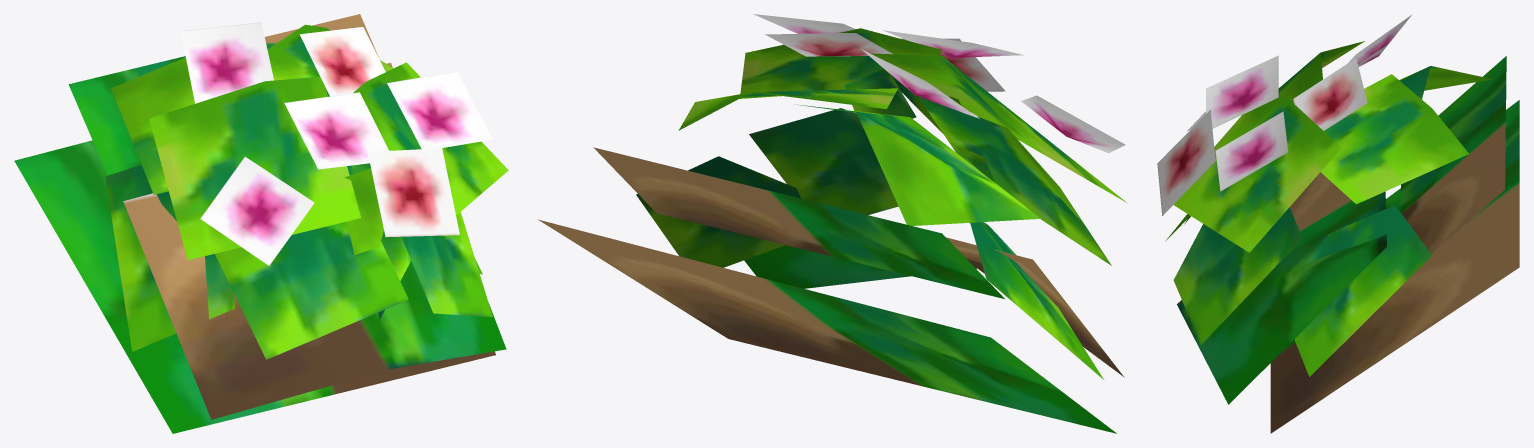
File: fg_bushB_2_wt.dae
3 views of the same model, side by side, from view 1: azimuth 30°, elevation 25°; view 2: azimuth 150°, elevation 25°; view 3: azimuth 270°, elevation 25° (orthographic). The views are drawn at different scales.
Visible parts, largest first — view 1: fg_bushB_2_wt; view 2: fg_bushB_2_wt; view 3: fg_bushB_2_wt.
Part boxes in pixels (bbox=[...]): fg_bushB_2_wt: bbox=[14, 14, 508, 433]; fg_bushB_2_wt: bbox=[538, 14, 1126, 433]; fg_bushB_2_wt: bbox=[1157, 15, 1519, 433].
Size of the model in its own units: 43.24 by 36.09 by 38.13.
1 material, 1 textured.
